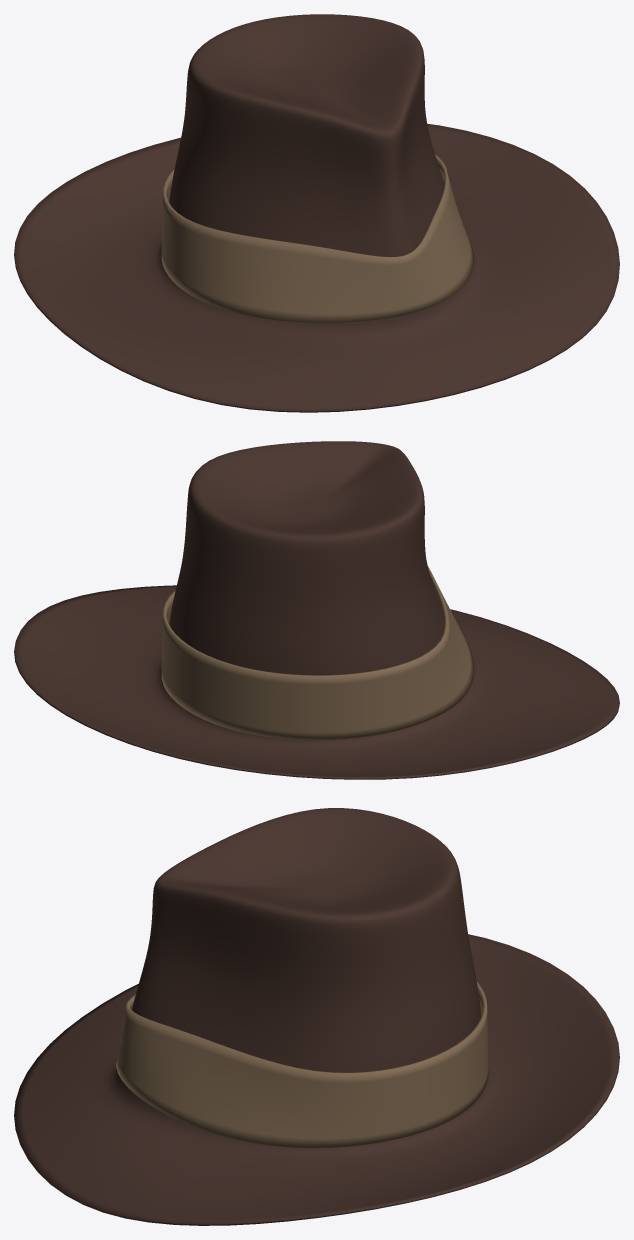
File: Fedora.fbx
The picture shows the model from 3 angles, top to bottom: view 1: azimuth 30°, elevation 25°; view 2: azimuth 150°, elevation 25°; view 3: azimuth 270°, elevation 25°; orthographic projection. The views are drawn at different scales.
Visible parts, largest first — view 1: FedoraHat, Bandeau; view 2: FedoraHat, Bandeau; view 3: FedoraHat, Bandeau.
Boxes of the visible parts, x1=… form: FedoraHat: x1=14, y1=14, x2=619, y2=412; Bandeau: x1=161, y1=154, x2=474, y2=322; FedoraHat: x1=14, y1=441, x2=619, y2=779; Bandeau: x1=161, y1=566, x2=474, y2=740; FedoraHat: x1=14, y1=808, x2=619, y2=1225; Bandeau: x1=116, y1=981, x2=488, y2=1148.
Bounding box in the file's own units: 573 × 237 × 510.
